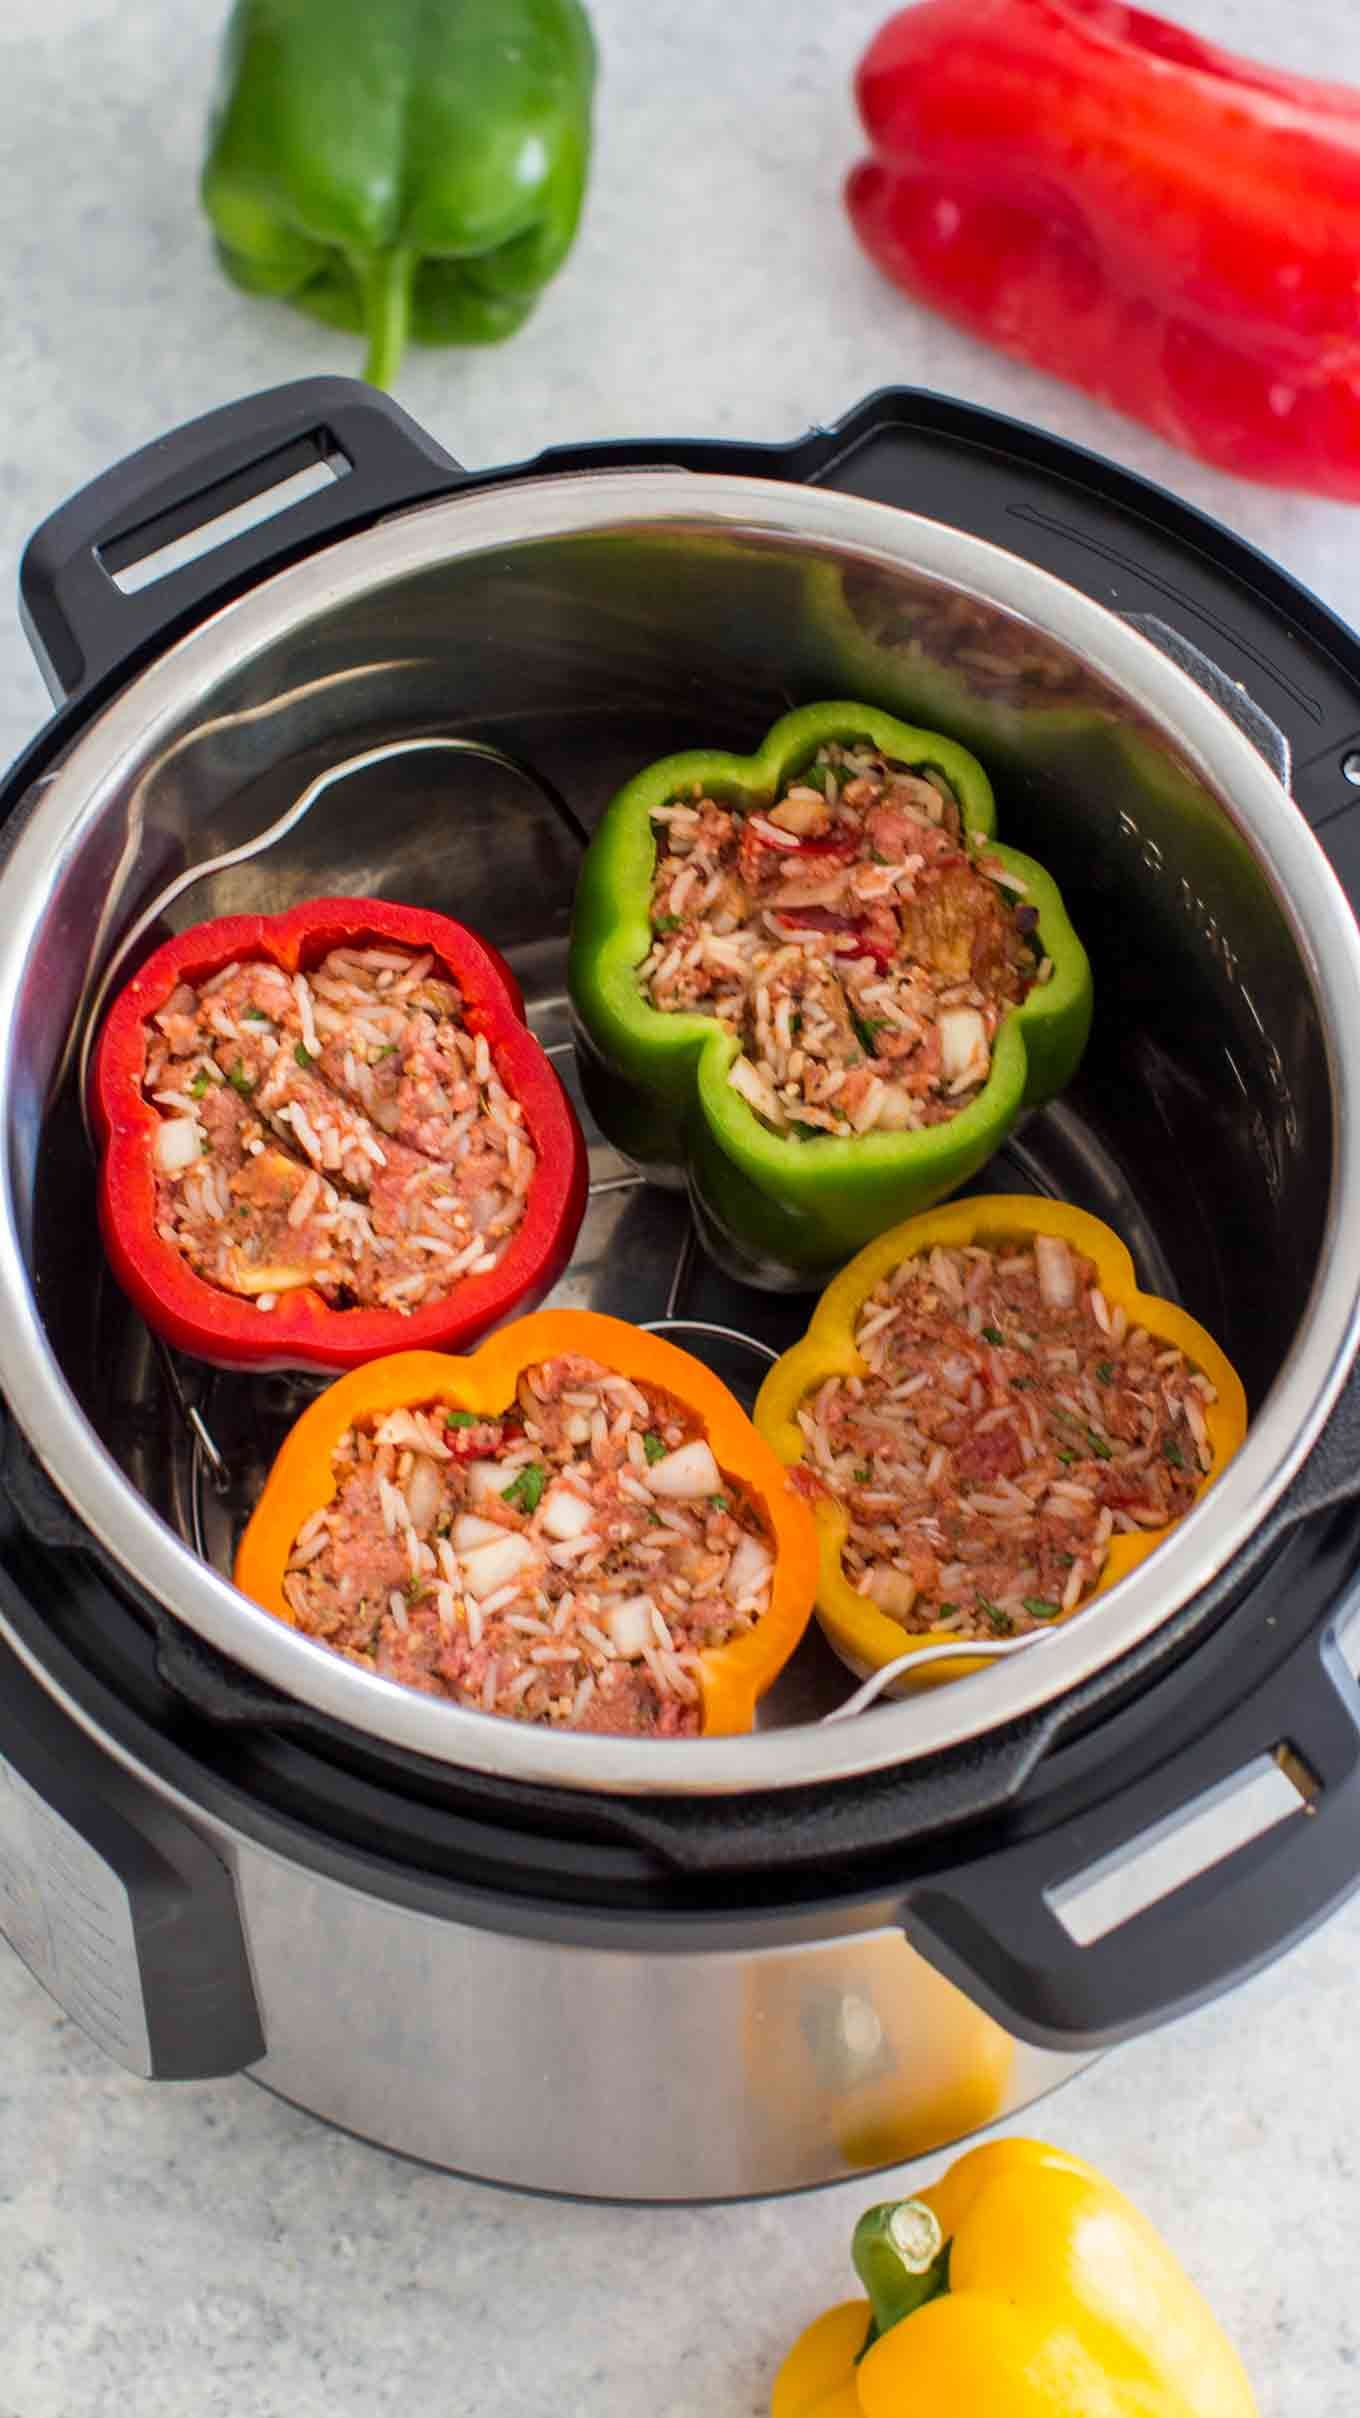ground_beef: (148, 955, 533, 1280), (364, 1398, 761, 1711), (839, 1249, 1169, 1574), (674, 799, 991, 1083)
